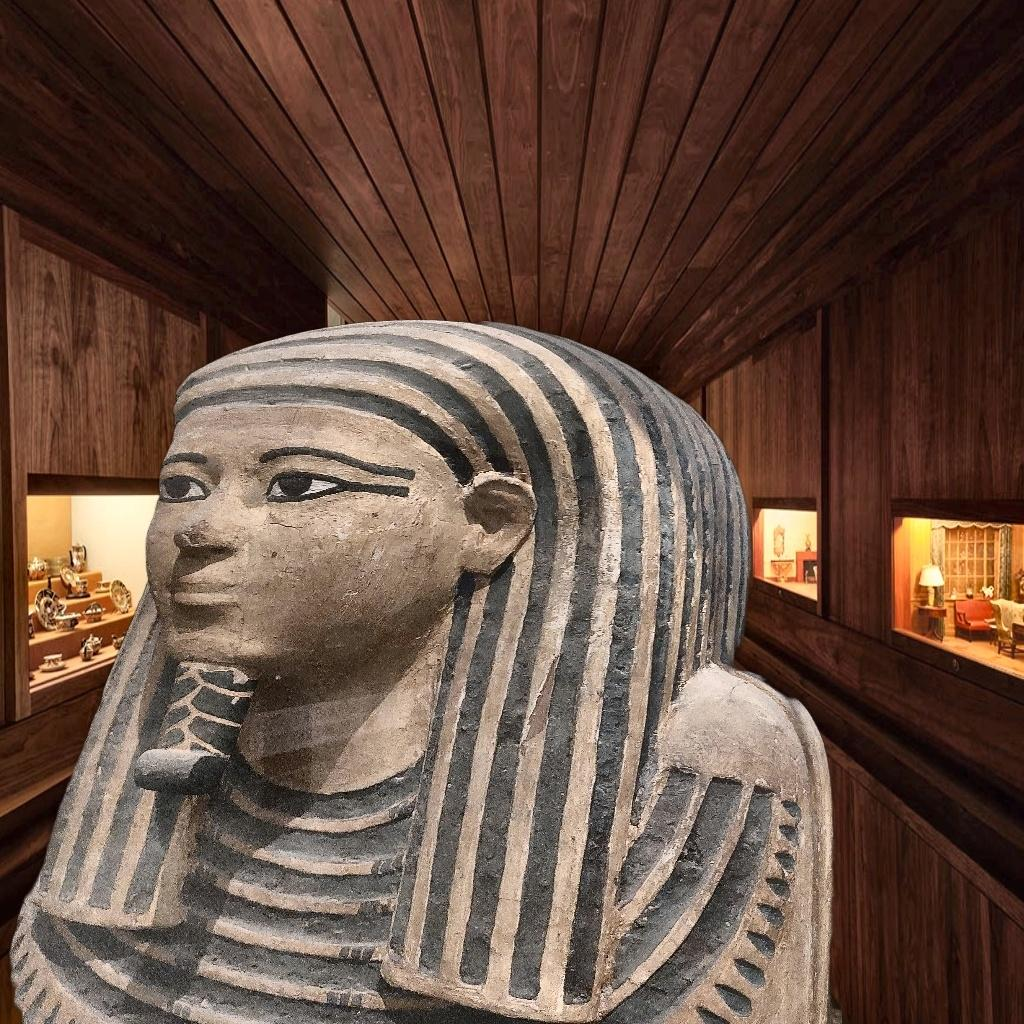Coffin of Ahmose I: (0, 313, 842, 1024)
